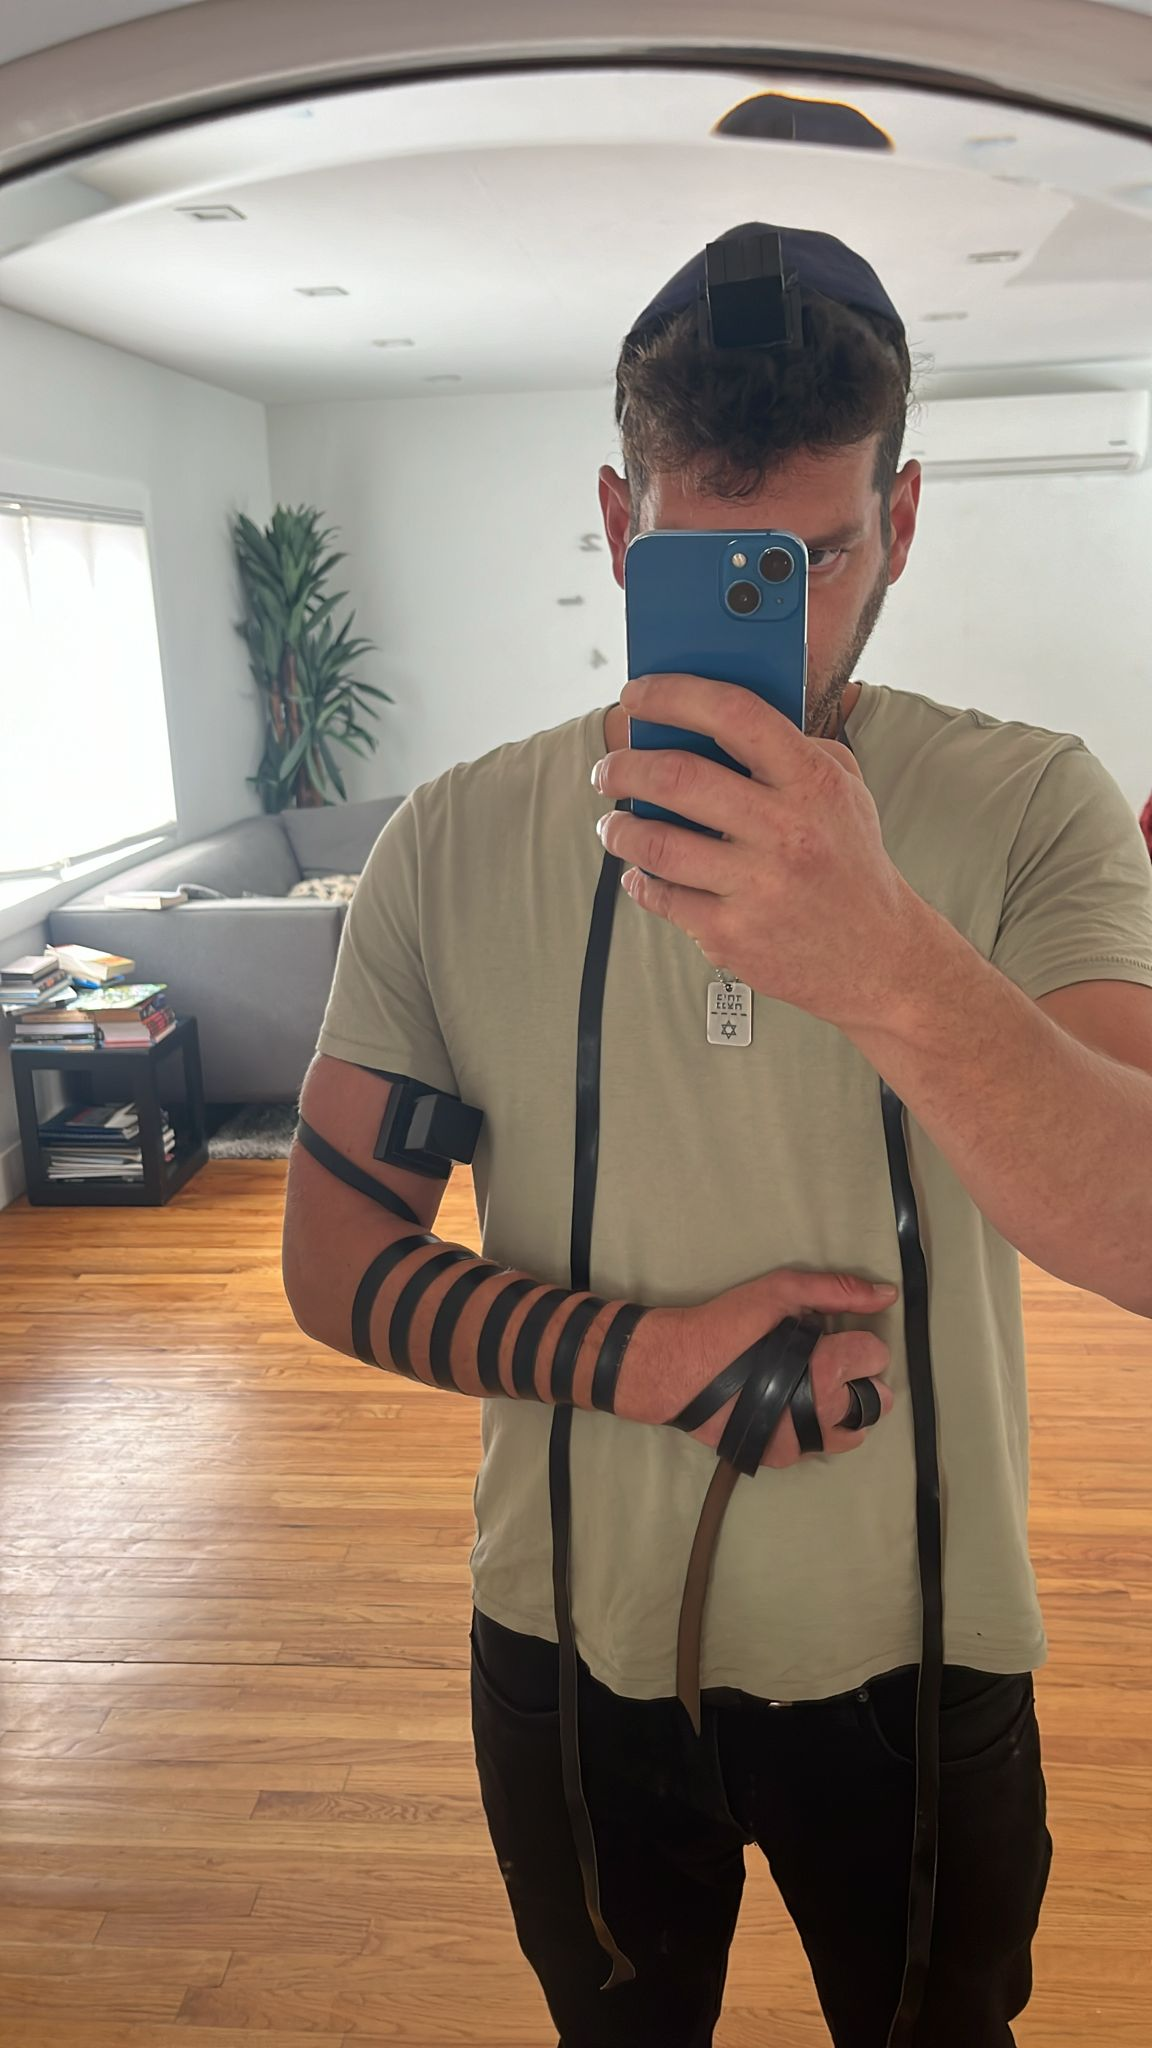tefillin: (703, 233, 805, 352), (377, 1077, 477, 1179)
